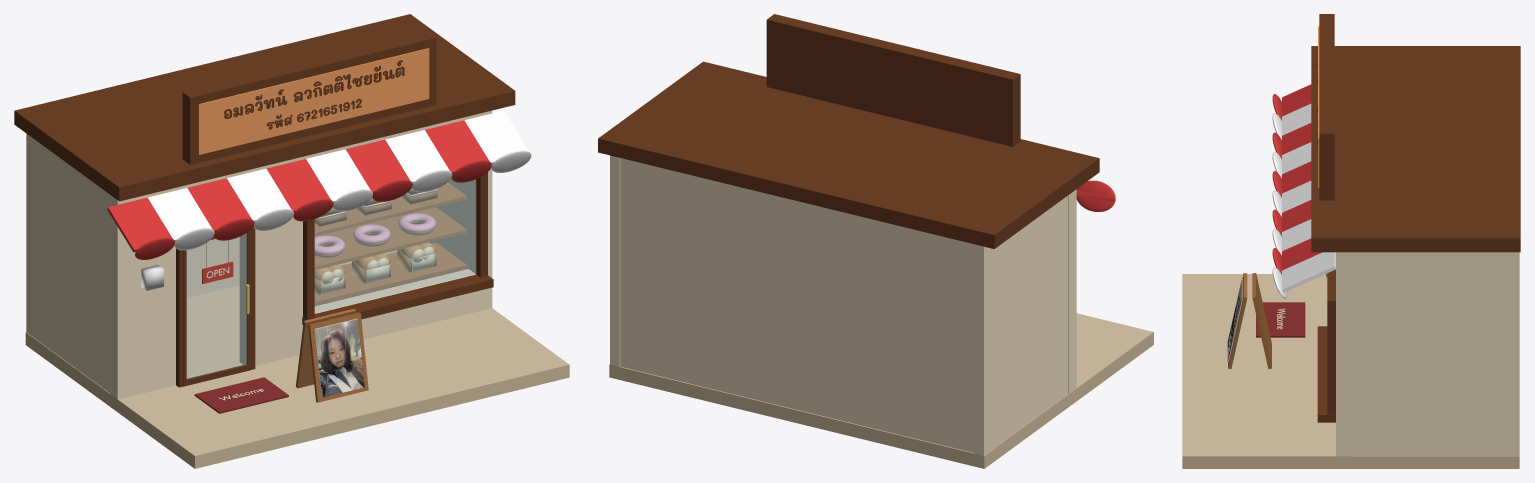
Rendered from bakeryshop.glb.
3 views of the same model, side by side, from view 1: azimuth 30°, elevation 25°; view 2: azimuth 150°, elevation 25°; view 3: azimuth 270°, elevation 25° (orthographic).
Visible parts, largest first — view 1: Floor, Roof, Wall_SideL, Window_Glass, Sign_Face, Wall_L, Wall_Mid, Sign_Frame, DoorGlassPanel, Wall_WinBot, Board_Photo, Shelf_1 (+39 smaller); view 2: Wall_Back, Roof, Sign_Frame, Wall_SideL, Floor, Wall_SideR, Wall_L, Awning_Scallop0; view 3: Roof, Wall_SideR, Floor, Wall_R, Sign_Frame, DoorMat, Awning_Stripe9, WinFrame_Sill, WinFrame_R, Board_Back, Awning_Stripe8, Awning_Stripe0 (+8 smaller).
Boxes of the visible parts, x1,y1,x2,y2 form: Floor: (25, 250, 569, 468); Roof: (14, 14, 515, 201); Wall_SideL: (26, 133, 109, 392); Window_Glass: (315, 178, 475, 312); Sign_Face: (198, 48, 429, 154); Wall_L: (110, 186, 180, 399); Wall_Mid: (239, 155, 310, 365); Sign_Frame: (182, 32, 436, 164); DoorGlassPanel: (187, 233, 246, 378); Wall_WinBot: (314, 269, 476, 339); Board_Photo: (315, 319, 364, 397); Shelf_1: (314, 207, 466, 269); Wall_Back: (620, 158, 974, 452); Roof: (598, 61, 1099, 248); Sign_Frame: (766, 14, 1020, 146); Wall_SideL: (974, 195, 1068, 455); Floor: (609, 313, 1153, 468); Wall_SideR: (610, 155, 620, 366); Wall_L: (1068, 189, 1076, 394); Awning_Scallop0: (1076, 180, 1115, 211); Roof: (1311, 46, 1520, 252); Wall_SideR: (1351, 252, 1519, 455); Floor: (1182, 274, 1519, 468); Wall_R: (1336, 252, 1351, 456); Sign_Frame: (1319, 14, 1334, 200); DoorMat: (1256, 302, 1305, 337); Awning_Stripe9: (1282, 252, 1335, 292); WinFrame_Sill: (1317, 326, 1335, 422); WinFrame_R: (1327, 309, 1335, 414); Board_Back: (1252, 273, 1271, 369); Awning_Stripe8: (1282, 238, 1321, 270); Awning_Stripe0: (1282, 84, 1311, 116).
Size of the model in its own units: 7.4 by 5.45 by 5.5.
29 materials, 1 textured.
